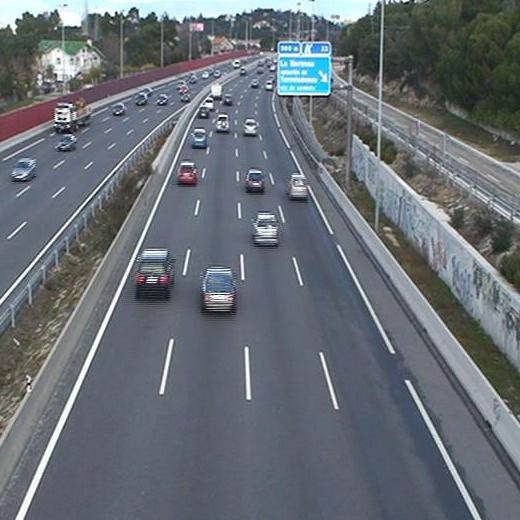car: (135, 248, 175, 294), (200, 266, 239, 312), (251, 213, 280, 245), (287, 174, 309, 199), (244, 168, 265, 190), (176, 161, 197, 183), (190, 128, 208, 148), (244, 119, 258, 135), (216, 113, 230, 129), (199, 106, 209, 118), (205, 98, 215, 109), (223, 94, 233, 105)
van: (210, 83, 223, 100)
